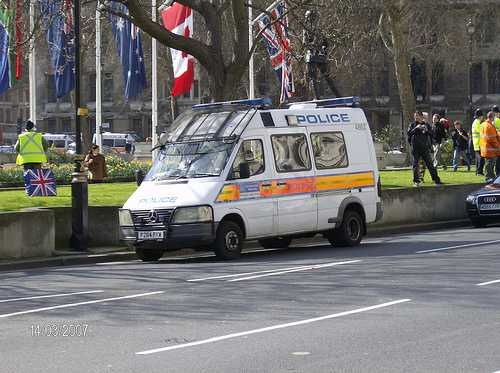Police Car: (112, 79, 392, 270)
